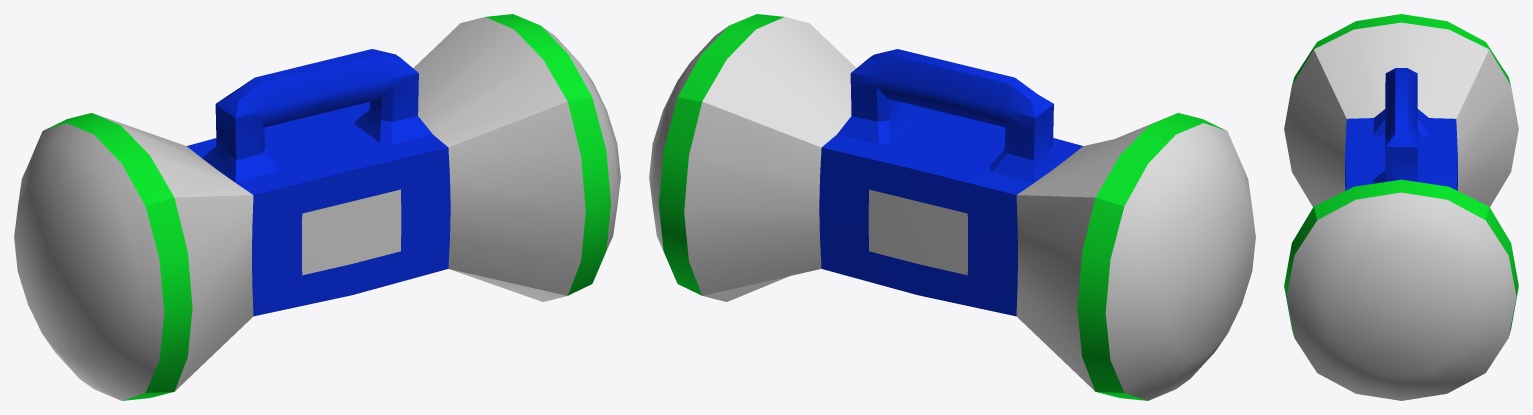
File: powerCell.fbx
The picture shows the model from 3 angles, left to right: view 1: azimuth 30°, elevation 25°; view 2: azimuth 150°, elevation 25°; view 3: azimuth 270°, elevation 25°; orthographic projection. The views are drawn at different scales.
Parts seen in each view (by area): view 1: PowerCell; view 2: PowerCell; view 3: PowerCell.
Part boxes in pixels (left/top/right/bottom): PowerCell: left=14, top=14, right=620, bottom=400; PowerCell: left=649, top=14, right=1255, bottom=400; PowerCell: left=1284, top=14, right=1518, bottom=400.
Size of the model in its own units: 64.11 by 30.78 by 29.48.
